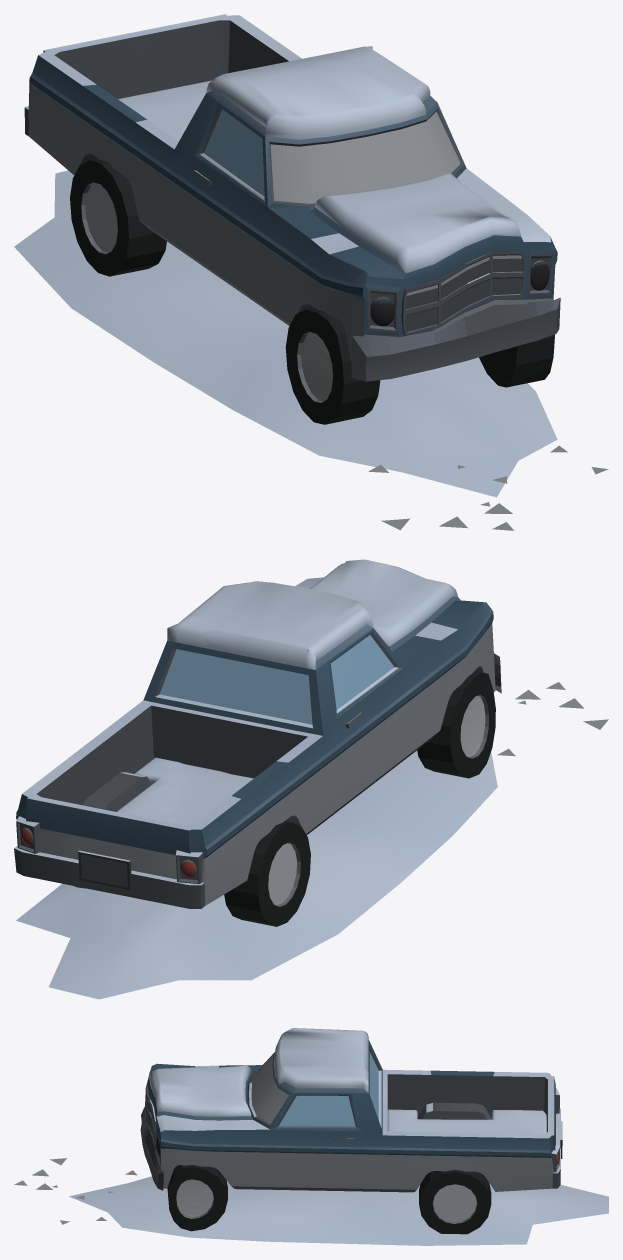
File: pickup_crashed.glb
The picture shows the model from 3 angles, top to bottom: view 1: azimuth 30°, elevation 25°; view 2: azimuth 150°, elevation 25°; view 3: azimuth 270°, elevation 25°; orthographic projection. The views are drawn at different scales.
Parts seen in each view (by area): view 1: Body, Glass; view 2: Body, Glass; view 3: Body, Glass.
Part boxes in pixels (x1,y1,x2,y2): Body: (14, 14, 608, 530); Glass: (204, 109, 264, 196); Body: (14, 559, 608, 999); Glass: (159, 635, 394, 724); Body: (14, 1028, 608, 1245); Glass: (279, 1052, 378, 1126).
Size of the model in its own units: 2.63 by 2.22 by 7.61.
